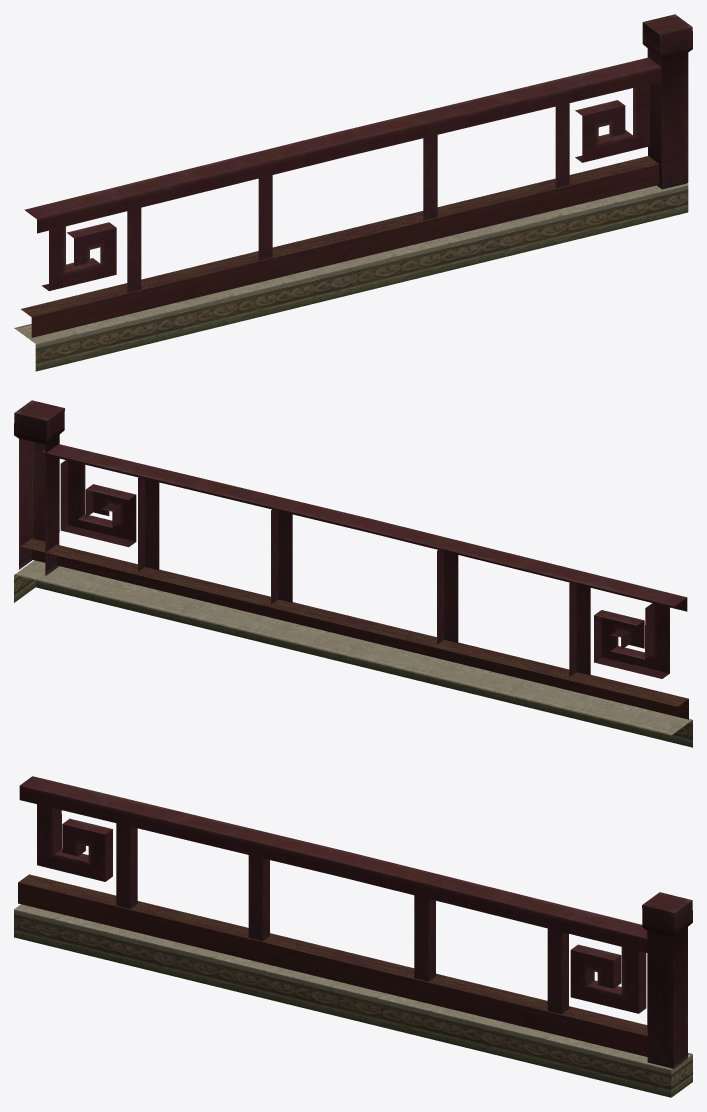
The model's file is fb_cangjingge_langan01.FBX.
The picture shows the model from 3 angles, top to bottom: view 1: azimuth 30°, elevation 25°; view 2: azimuth 150°, elevation 25°; view 3: azimuth 330°, elevation 25°; orthographic projection.
Visible parts, largest first — view 1: fb_cangjingge_langan01; view 2: fb_cangjingge_langan01; view 3: fb_cangjingge_langan01.
Part boxes in pixels (bbox=[...]): fb_cangjingge_langan01: bbox=[14, 14, 692, 371]; fb_cangjingge_langan01: bbox=[14, 400, 692, 747]; fb_cangjingge_langan01: bbox=[14, 776, 692, 1097].
Bounding box in the file's own units: 339 × 91.18 × 19.61.
